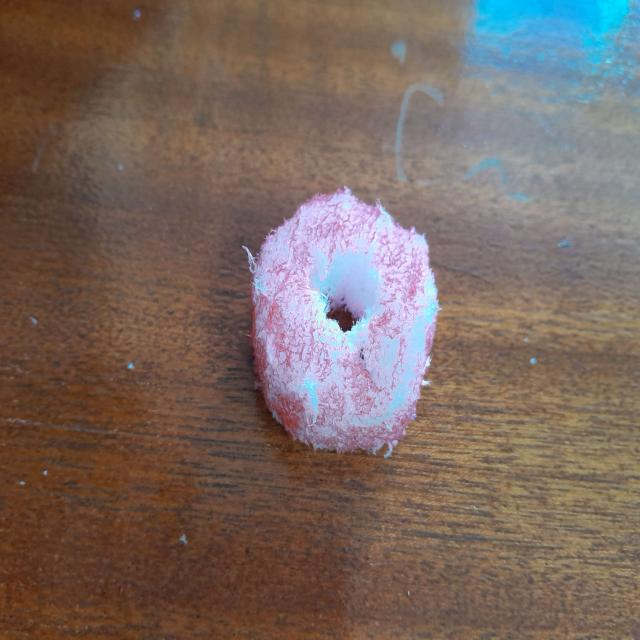wheel: (248, 186, 448, 458)
